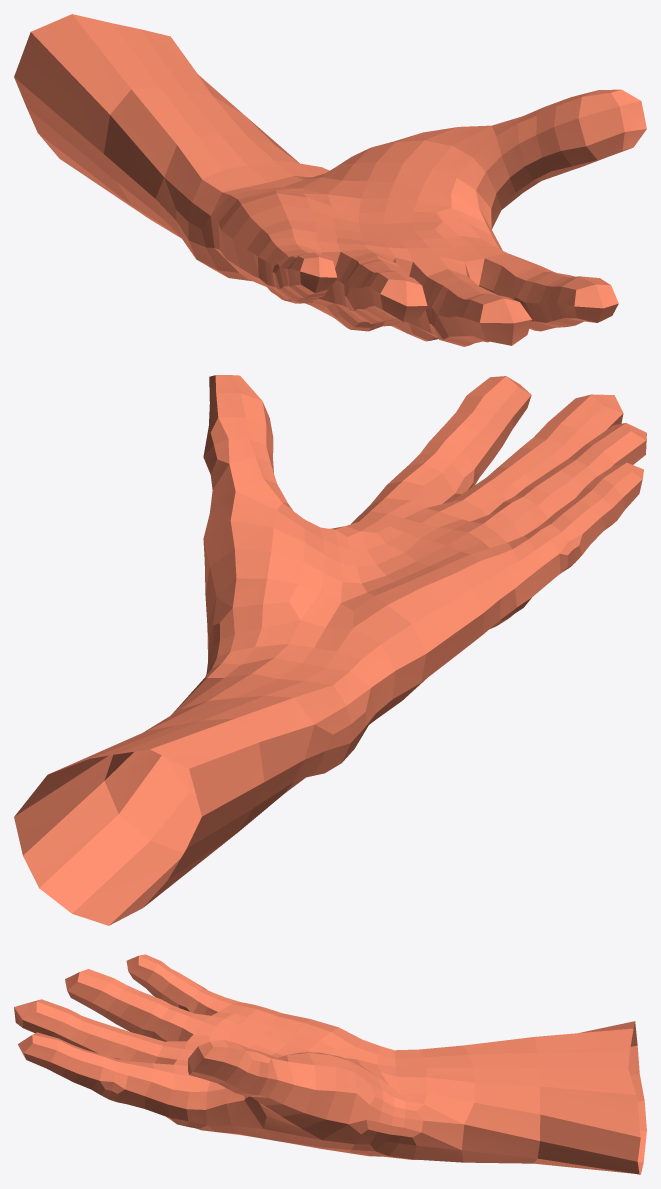
The model's file is 2_8_HandPolygonalLeftFront.obj.
3 views of the same model, one above another, from view 1: azimuth 30°, elevation 25°; view 2: azimuth 150°, elevation 25°; view 3: azimuth 270°, elevation 25° (orthographic). The views are drawn at different scales.
Visible parts, largest first — view 1: hand_man_polySurface1.007; view 2: hand_man_polySurface1.007; view 3: hand_man_polySurface1.007.
Boxes of the visible parts, x1,y1,x2,y2 form: hand_man_polySurface1.007: (14,14,646,346); hand_man_polySurface1.007: (14,375,646,925); hand_man_polySurface1.007: (14,954,646,1174).
Bounding box in the file's own units: 0.0799 × 0.0535 × 0.1653.
